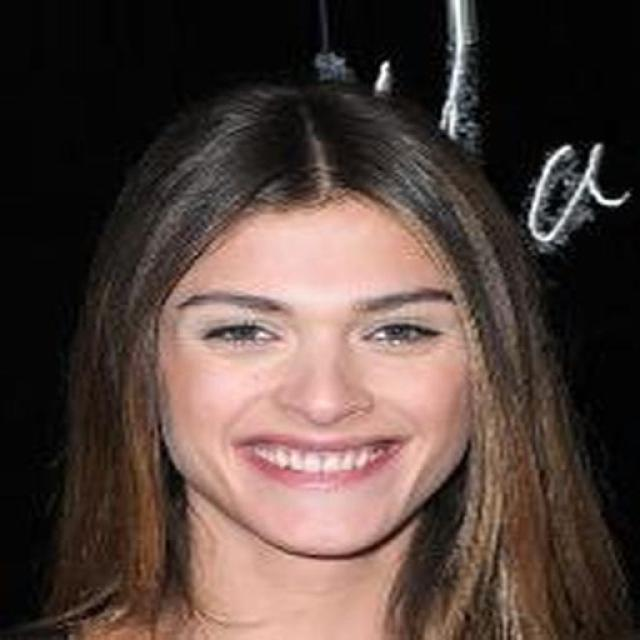bareface: (162, 107, 486, 559)
